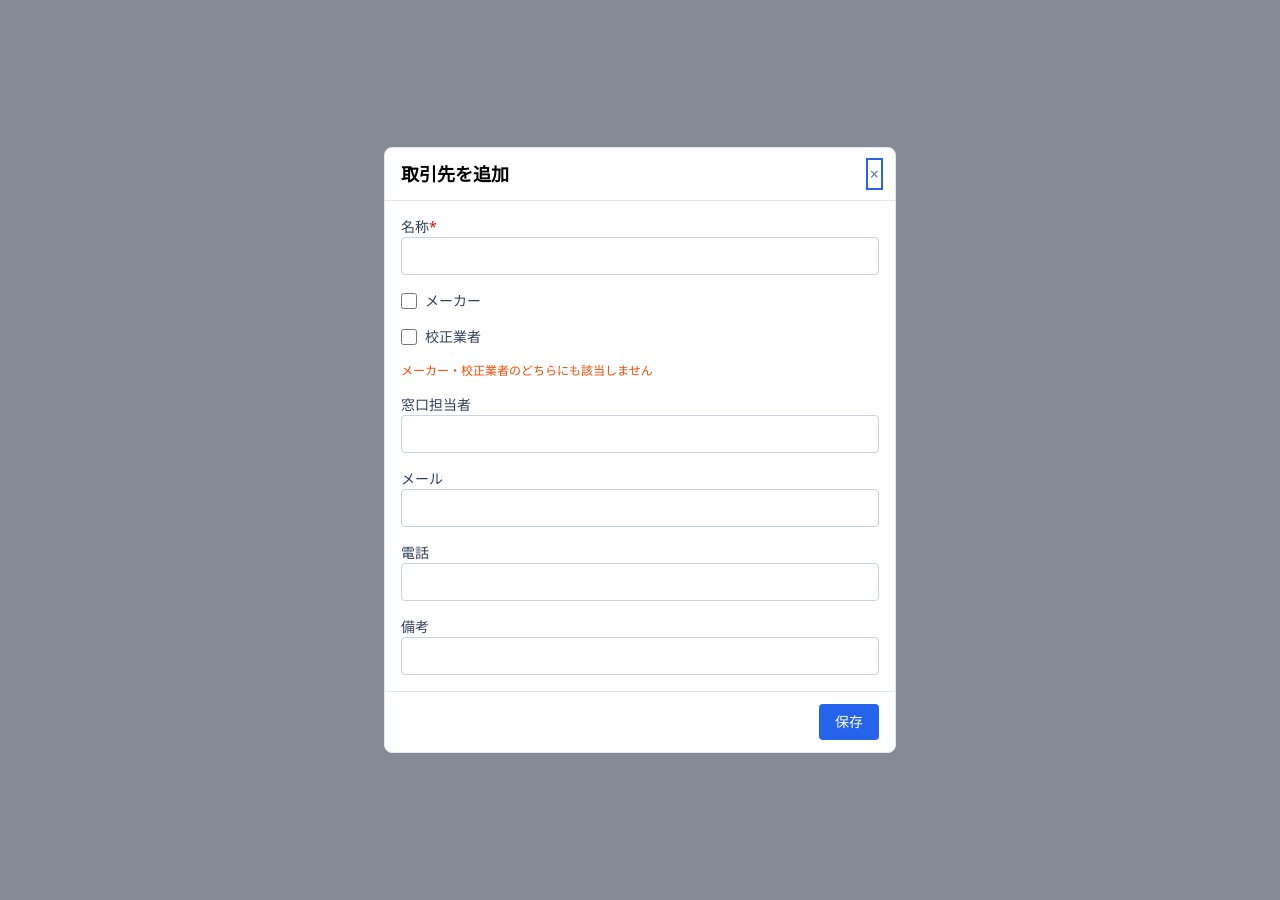
VendorModal: 新規追加 › 名称が空のまま保存するとエラー文言が表示され保存されない
The image size is (1280, 900).
Click the button "保存".
click(849, 722)  # box x1=819 y1=704 x2=879 y2=740
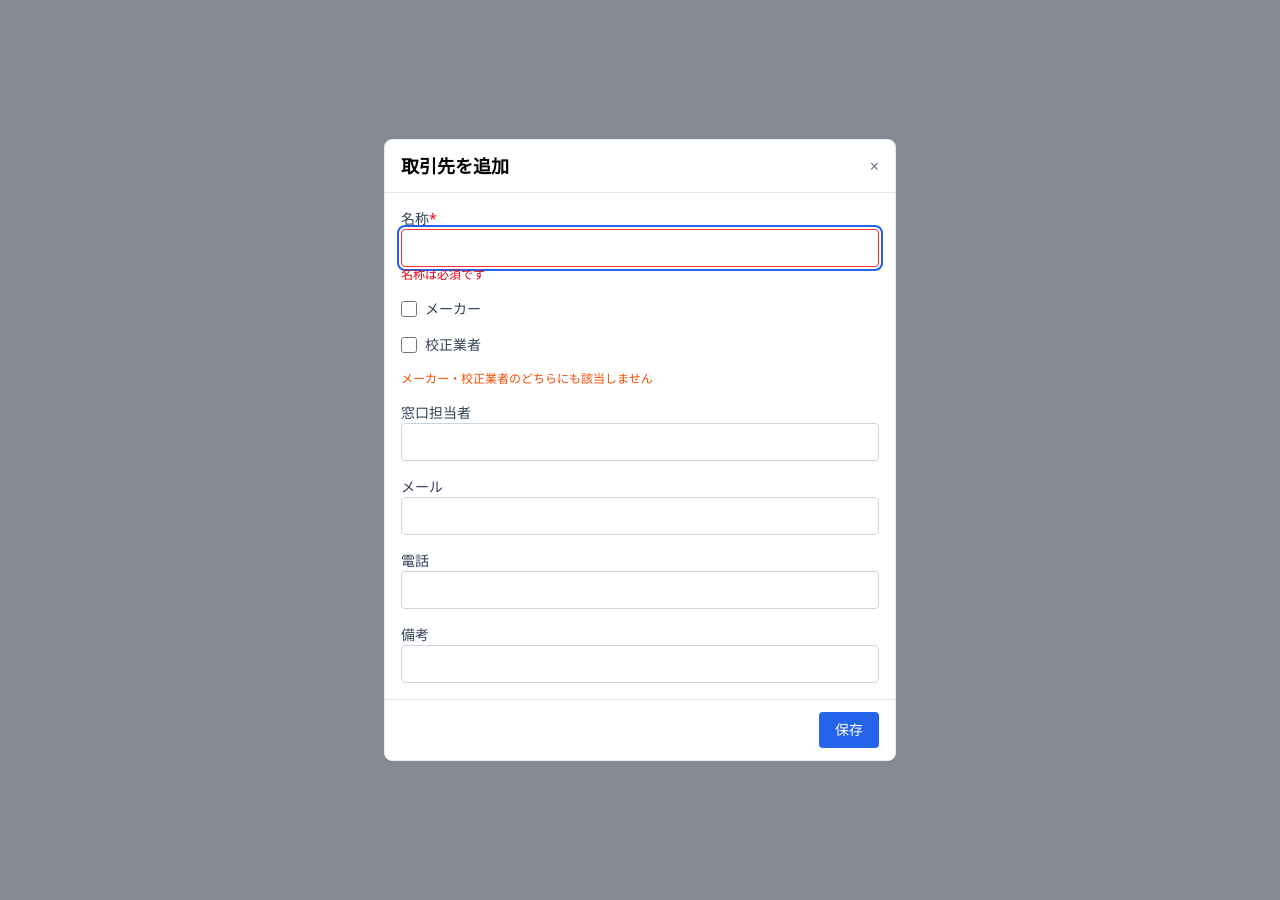
Expected: the text "名称は必須です" is shown, x1=401 y1=266 x2=485 y2=283
